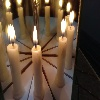fire: (33, 24, 39, 45)
